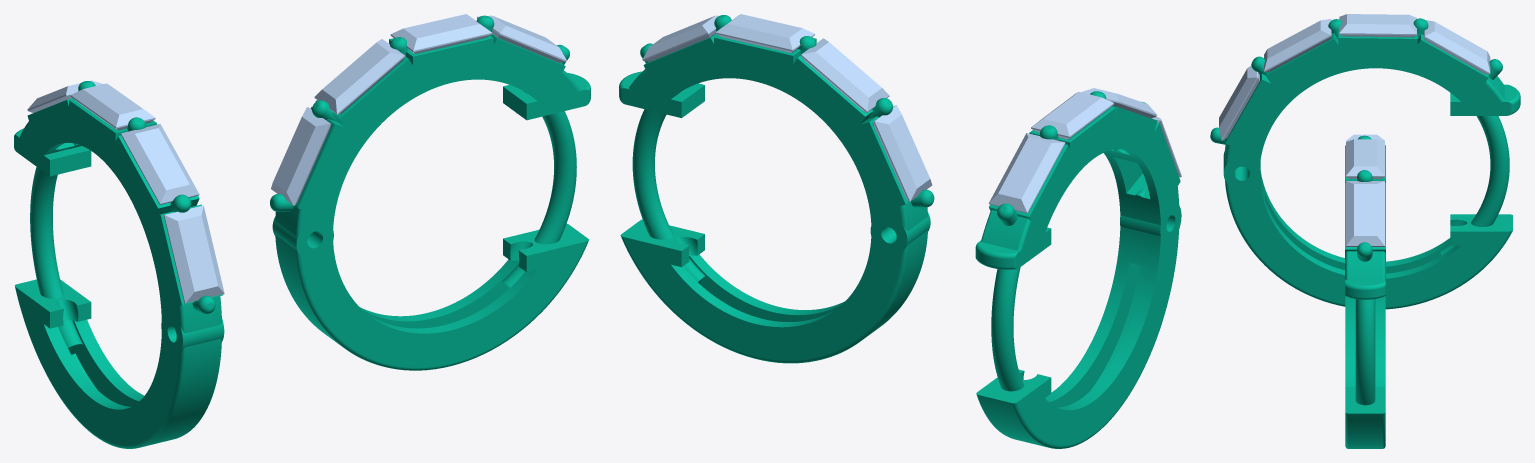
3 renders of one model, left to right at view 1: azimuth 30°, elevation 25°; view 2: azimuth 150°, elevation 25°; view 3: azimuth 270°, elevation 25°, orthographic. The views are drawn at different scales.
Parts seen in each view (by area): view 1: VEAR708.3dm, Bezel (×8), Diamond_Baguette Straight (×8); view 2: VEAR708.3dm, Bezel (×8), Diamond_Baguette Straight (×7); view 3: VEAR708.3dm, Diamond_Baguette Straight (×6), Bezel (×4).
Boxes of the visible parts, box(x1,y1,x2,y2) form: VEAR708.3dm: box(14, 15, 590, 448); Bezel (×8): box(27, 34, 565, 309); Diamond_Baguette Straight (×8): box(27, 14, 566, 303); VEAR708.3dm: box(619, 15, 1181, 448); Bezel (×8): box(643, 33, 1180, 242); Diamond_Baguette Straight (×7): box(642, 14, 1157, 213); VEAR708.3dm: box(1210, 18, 1520, 448); Diamond_Baguette Straight (×6): box(1219, 14, 1490, 246); Bezel (×4): box(1225, 32, 1488, 150).
Bounding box in the file's own units: 2.94 × 1.92 × 1.91.
